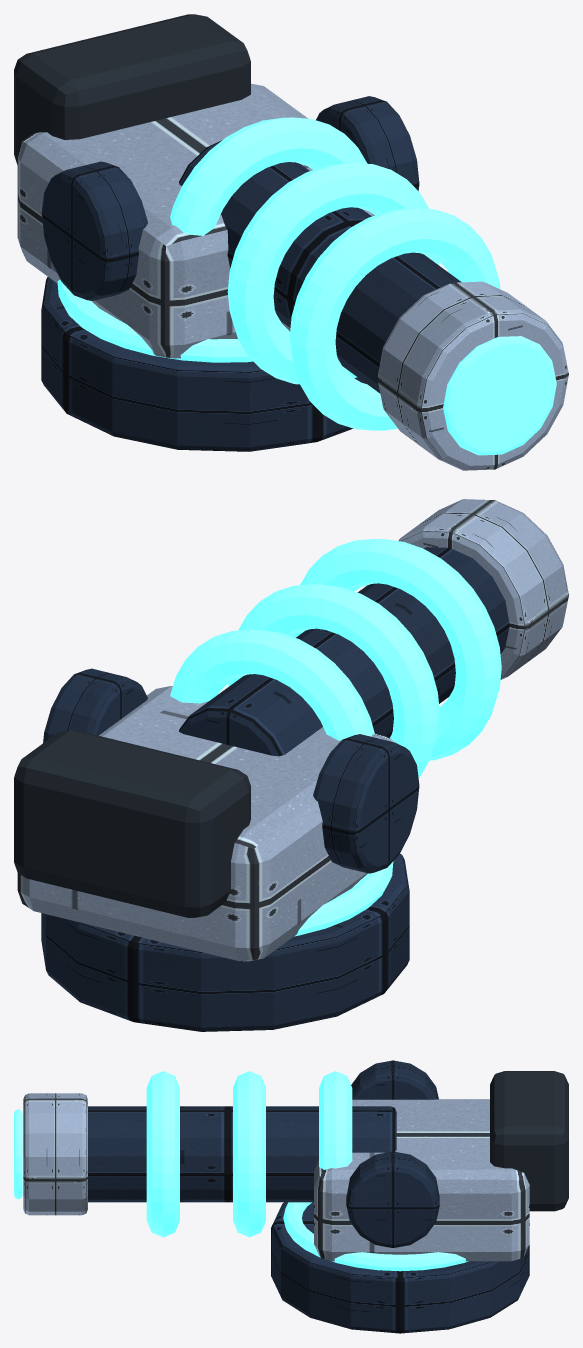
Rendered from cryo_gun.glb.
3 renders of one model, top to bottom at view 1: azimuth 30°, elevation 25°; view 2: azimuth 150°, elevation 25°; view 3: azimuth 270°, elevation 25°, orthographic. The views are drawn at different scales.
Parts seen in each view (by area): view 1: Surface_cryo_gun_Reactor.001, Surface_Brushed_Steel, Surface_Ceramic_Armor, Surface_Recess_Carbon, Surface_Ceramic_Armor.001, Surface_Brushed_Steel.001, Surface_cryo_gun_Reactor; view 2: Surface_Brushed_Steel, Surface_cryo_gun_Reactor.001, Surface_Recess_Carbon, Surface_Ceramic_Armor, Surface_Brushed_Steel.001, Surface_Ceramic_Armor.001, Surface_cryo_gun_Reactor; view 3: Surface_Brushed_Steel, Surface_Ceramic_Armor, Surface_Brushed_Steel.001, Surface_cryo_gun_Reactor.001, Surface_Recess_Carbon, Surface_Ceramic_Armor.001, Surface_cryo_gun_Reactor.
Boxes of the visible parts, x1,y1,x2,y2 form: Surface_cryo_gun_Reactor.001: [170, 117, 556, 455]; Surface_Brushed_Steel: [41, 96, 419, 451]; Surface_Ceramic_Armor: [17, 83, 374, 358]; Surface_Recess_Carbon: [14, 14, 250, 164]; Surface_Ceramic_Armor.001: [377, 281, 568, 470]; Surface_Brushed_Steel.001: [179, 140, 461, 393]; Surface_cryo_gun_Reactor: [57, 279, 252, 362]; Surface_Brushed_Steel: [41, 668, 419, 1031]; Surface_cryo_gun_Reactor.001: [170, 539, 501, 777]; Surface_Recess_Carbon: [14, 730, 250, 917]; Surface_Ceramic_Armor: [17, 686, 396, 961]; Surface_Brushed_Steel.001: [179, 547, 509, 756]; Surface_Ceramic_Armor.001: [398, 499, 568, 679]; Surface_cryo_gun_Reactor: [294, 862, 393, 936]; Surface_Brushed_Steel: [271, 1060, 529, 1333]; Surface_Ceramic_Armor: [314, 1099, 529, 1261]; Surface_Brushed_Steel.001: [88, 1106, 396, 1202]; Surface_cryo_gun_Reactor.001: [14, 1071, 352, 1237]; Surface_Recess_Carbon: [490, 1071, 568, 1211]; Surface_Ceramic_Armor.001: [23, 1093, 87, 1215]; Surface_cryo_gun_Reactor: [283, 1202, 468, 1271].
Bounding box in the file's own units: 0.36 × 0.311 × 0.773.
4 materials, 2 textured.
